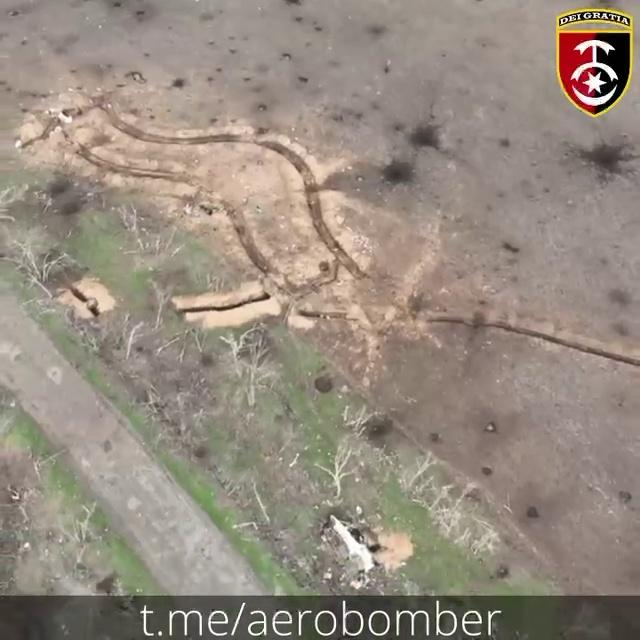trench: (19, 96, 370, 294), (293, 305, 640, 374), (170, 293, 274, 320), (61, 290, 102, 320)
